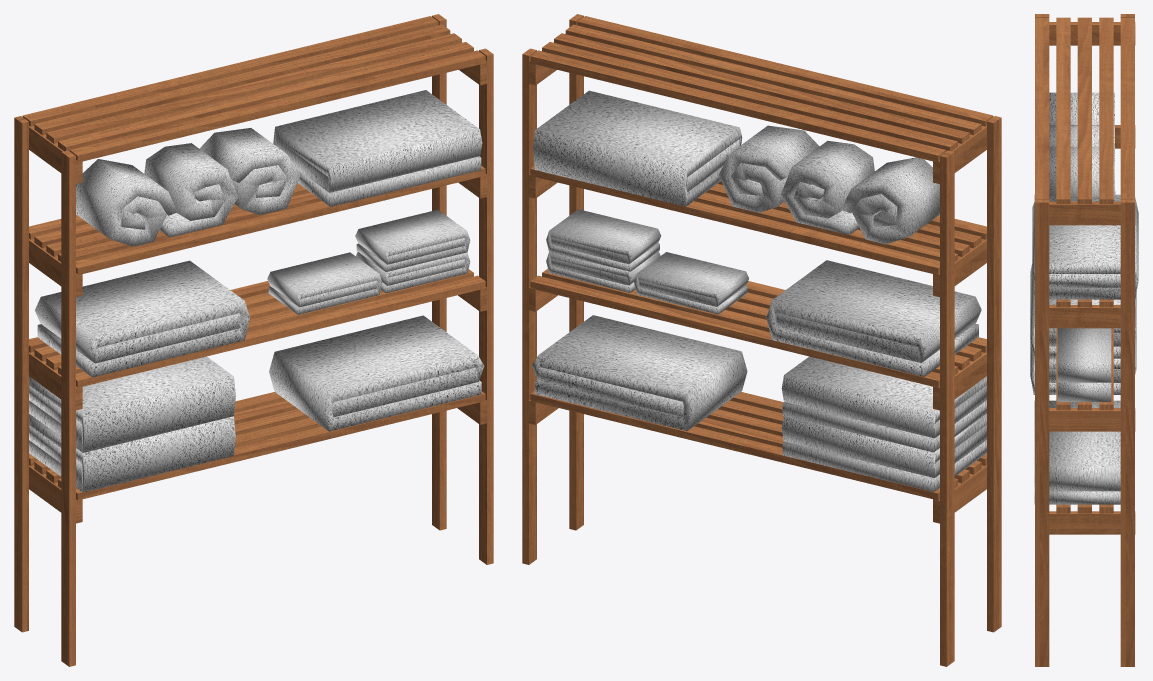
Rendered from Pool_TowelShelf.fbx.
The picture shows the model from 3 angles, left to right: view 1: azimuth 30°, elevation 25°; view 2: azimuth 150°, elevation 25°; view 3: azimuth 270°, elevation 25°; orthographic projection. The views are drawn at different scales.
Visible parts, largest first — view 1: Pool_TowelShelf; view 2: Pool_TowelShelf; view 3: Pool_TowelShelf.
Part boxes in pixels (x1=…): Pool_TowelShelf: x1=14, y1=14, x2=493, y2=666; Pool_TowelShelf: x1=522, y1=14, x2=1001, y2=666; Pool_TowelShelf: x1=1030, y1=14, x2=1138, y2=666.
Bounding box in the file's own units: 150 × 172 × 36.4.
